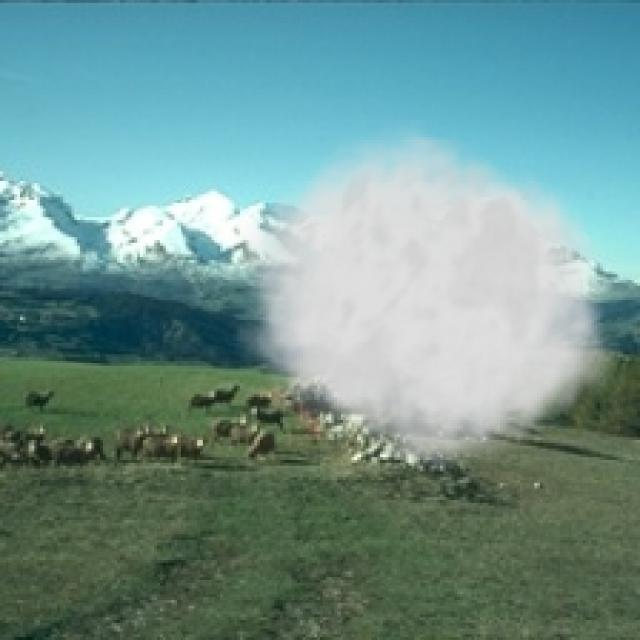Smoke: (234, 117, 626, 477)
